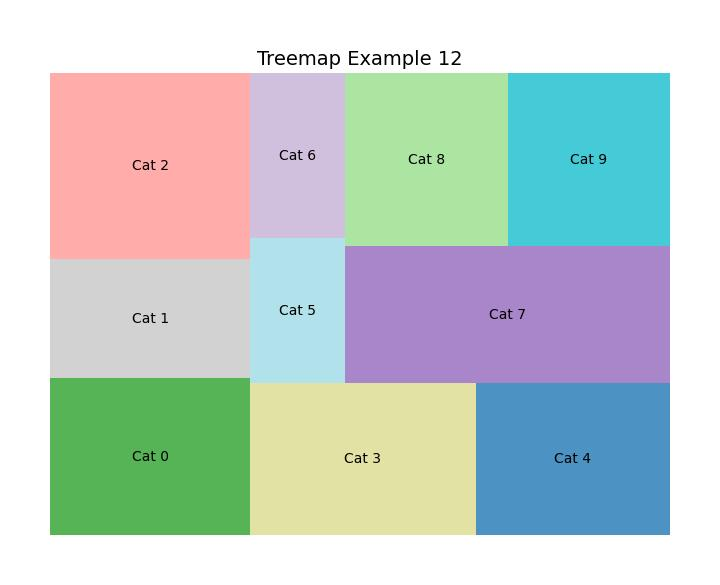rectangle: (346, 248, 670, 380), (50, 73, 250, 258), (250, 382, 474, 532), (50, 375, 250, 535), (473, 383, 671, 534), (347, 73, 509, 248), (509, 74, 670, 246), (50, 256, 249, 377), (250, 73, 346, 238), (251, 238, 344, 384)
